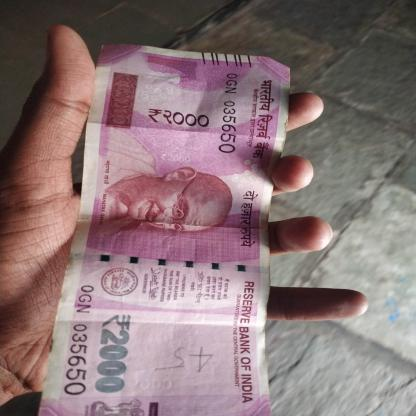New2000Front: (64, 45, 264, 416)
